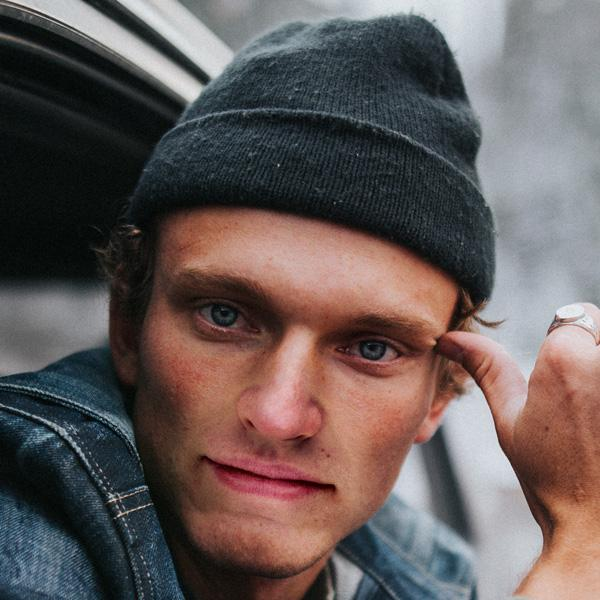Eyes: (323, 324, 415, 379), (182, 288, 263, 343)
